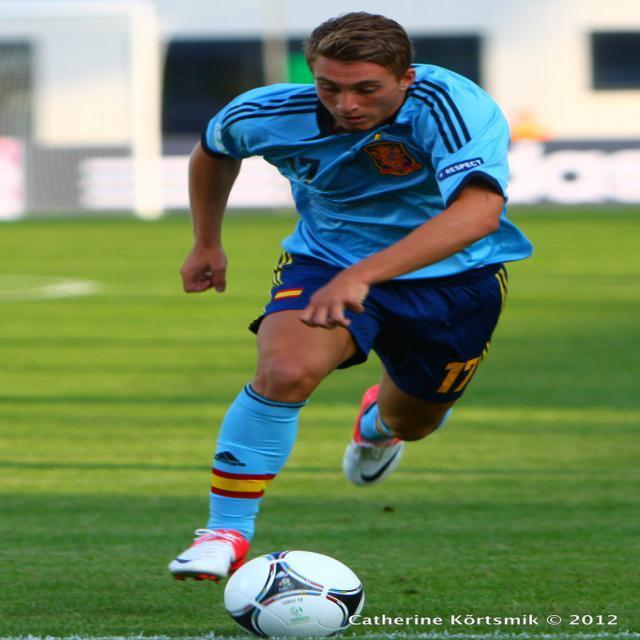football: (208, 542, 378, 640)
